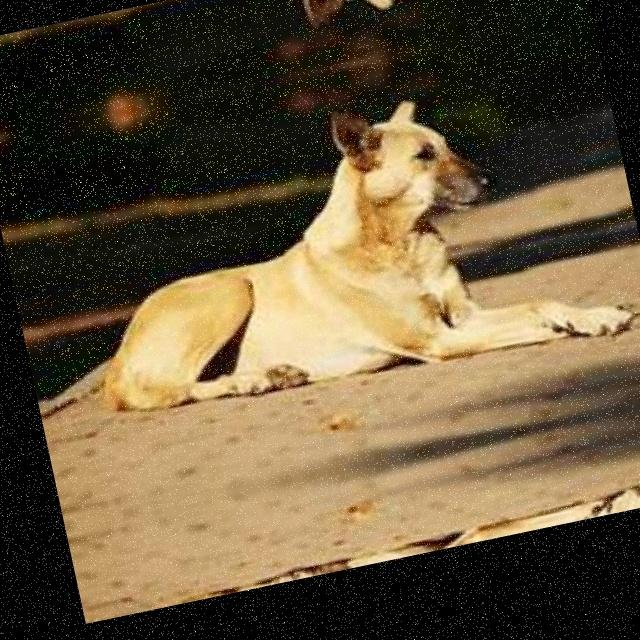dog: (98, 65, 634, 458), (182, 452, 640, 602), (68, 0, 550, 73)
